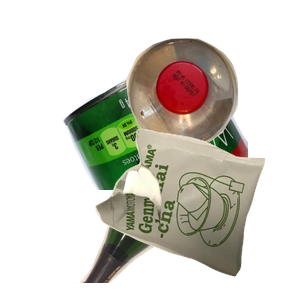glass: (66, 120, 279, 300)
metal: (60, 48, 300, 228)
plastic: (124, 36, 300, 175)
trash: (93, 126, 300, 300)
